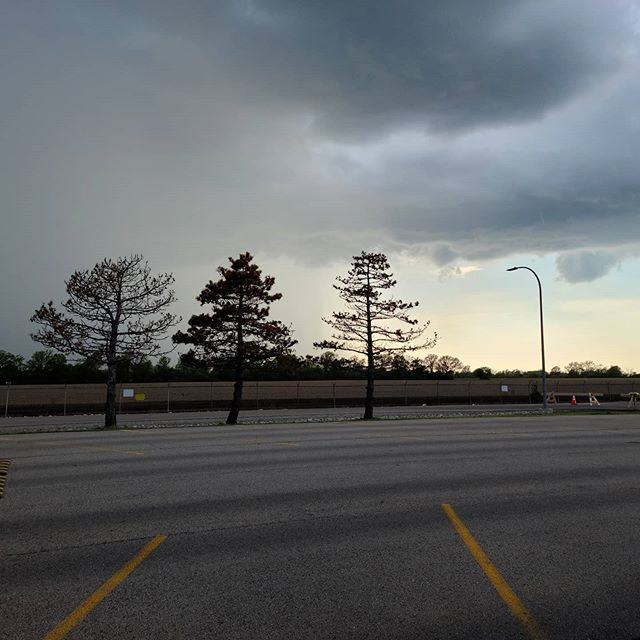sky: (13, 1, 640, 325)
street: (5, 411, 640, 640)
tree: (27, 249, 186, 434), (169, 245, 308, 435), (320, 240, 436, 421)
